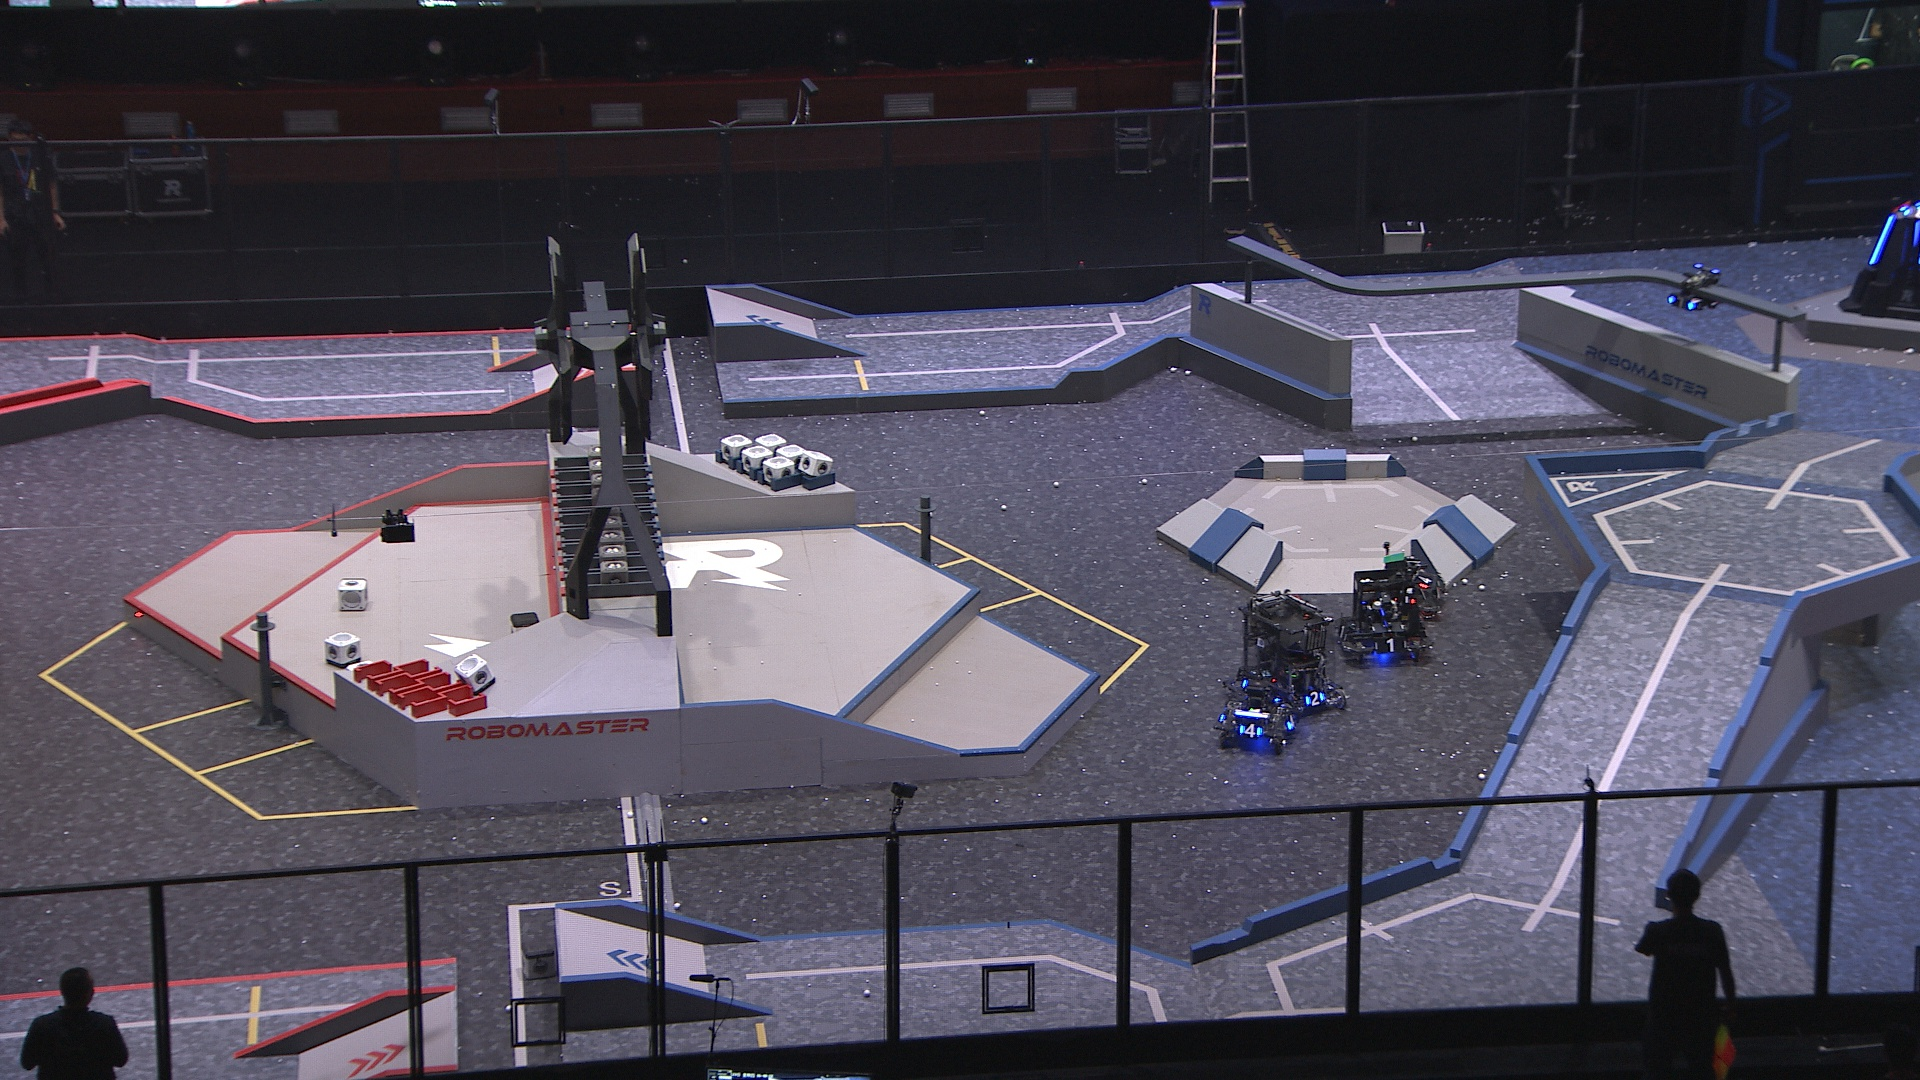armor: (1869, 215, 1898, 266), (1371, 638, 1408, 655), (1371, 618, 1406, 636), (1669, 295, 1697, 314), (1302, 690, 1327, 708), (1238, 723, 1266, 737), (1911, 220, 1920, 251), (1418, 572, 1433, 589), (1337, 622, 1349, 644), (1284, 713, 1298, 732)
base: (1836, 200, 1920, 324)
car: (1218, 591, 1352, 717), (1333, 570, 1429, 665), (1211, 675, 1299, 754), (1367, 541, 1447, 621)
watcher: (1669, 258, 1726, 315)
